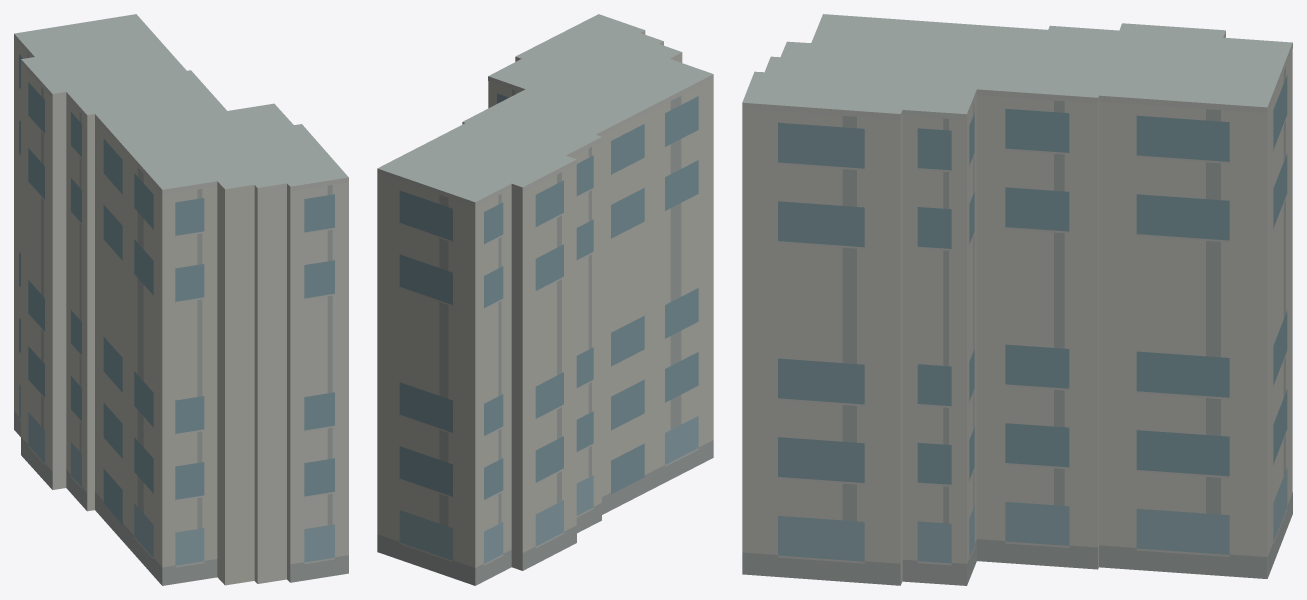
Rendered from survey-upis-32501318.glb.
3 views of the same model, side by side, from view 1: azimuth 30°, elevation 25°; view 2: azimuth 150°, elevation 25°; view 3: azimuth 270°, elevation 25° (orthographic). The views are drawn at different scales.
Parts seen in each view (by area): view 1: survey-upis-32501318.tmp; view 2: survey-upis-32501318.tmp; view 3: survey-upis-32501318.tmp.
Boxes of the visible parts, <box> form: survey-upis-32501318.tmp: <box>14,14,348,585</box>; survey-upis-32501318.tmp: <box>377,14,713,585</box>; survey-upis-32501318.tmp: <box>742,14,1292,585</box>.
Size of the model in its own units: 8.82 by 19.34 by 20.47.
